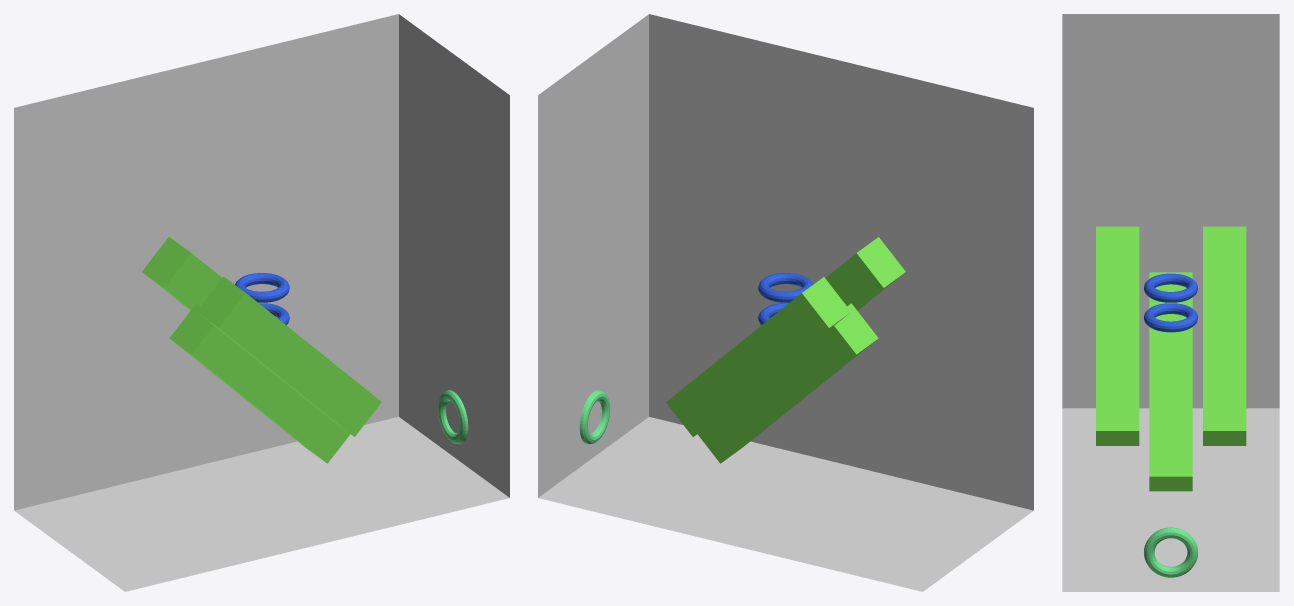
File: Level3.glb
3 renders of one model, left to right at view 1: azimuth 30°, elevation 25°; view 2: azimuth 150°, elevation 25°; view 3: azimuth 270°, elevation 25°, orthographic. The views are drawn at different scales.
Visible parts, largest first — view 1: Plane.022, Plane.024, Plane.027, Cube.001, Cube, Cube.002, spawn.005, destination.004; view 2: Plane.023, Plane.024, Plane.027, Cube.002, Cube, Cube.001, spawn.005, destination.004; view 3: Plane.025, Plane.027, Cube.001, Cube.002, Cube, destination.004, spawn.004, spawn.005.
Boxes of the visible parts, bbox=[...] form: Plane.022: bbox=[14, 14, 398, 510]; Plane.024: bbox=[399, 14, 509, 497]; Plane.027: bbox=[14, 417, 509, 591]; Cube.001: bbox=[196, 277, 381, 436]; Cube: bbox=[169, 303, 350, 463]; Cube.002: bbox=[142, 237, 222, 310]; spawn.005: bbox=[235, 273, 289, 302]; destination.004: bbox=[437, 390, 468, 444]; Plane.023: bbox=[649, 14, 1033, 510]; Plane.024: bbox=[538, 14, 648, 497]; Plane.027: bbox=[538, 417, 1033, 591]; Cube.002: bbox=[666, 277, 850, 436]; Cube: bbox=[697, 303, 878, 463]; Cube.001: bbox=[825, 237, 905, 310]; spawn.005: bbox=[758, 273, 812, 302]; destination.004: bbox=[579, 390, 610, 444]; Plane.025: bbox=[1062, 14, 1279, 408]; Plane.027: bbox=[1062, 408, 1279, 591]; Cube.001: bbox=[1096, 226, 1139, 445]; Cube.002: bbox=[1203, 226, 1246, 445]; Cube: bbox=[1149, 272, 1192, 491]; destination.004: bbox=[1144, 527, 1197, 577]; spawn.004: bbox=[1144, 303, 1197, 332]; spawn.005: bbox=[1144, 273, 1197, 302].
Size of the model in its own units: 20.25 by 20 by 10.
